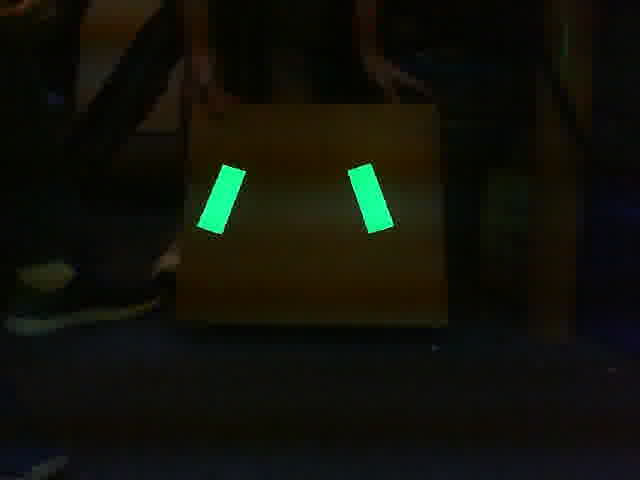target: (192, 160, 396, 237)
